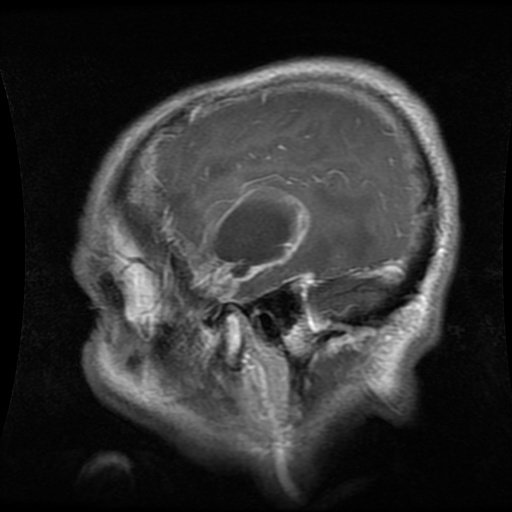glioma: (217, 186, 311, 277)
